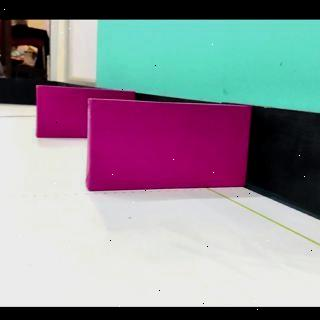xparking: (90, 100, 248, 192), (36, 88, 88, 138)
